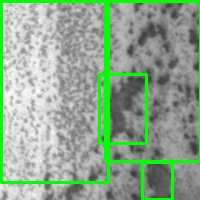patches: (99, 74, 146, 143), (142, 162, 172, 199)
pitted_surface: (1, 1, 108, 182), (105, 1, 200, 161)
